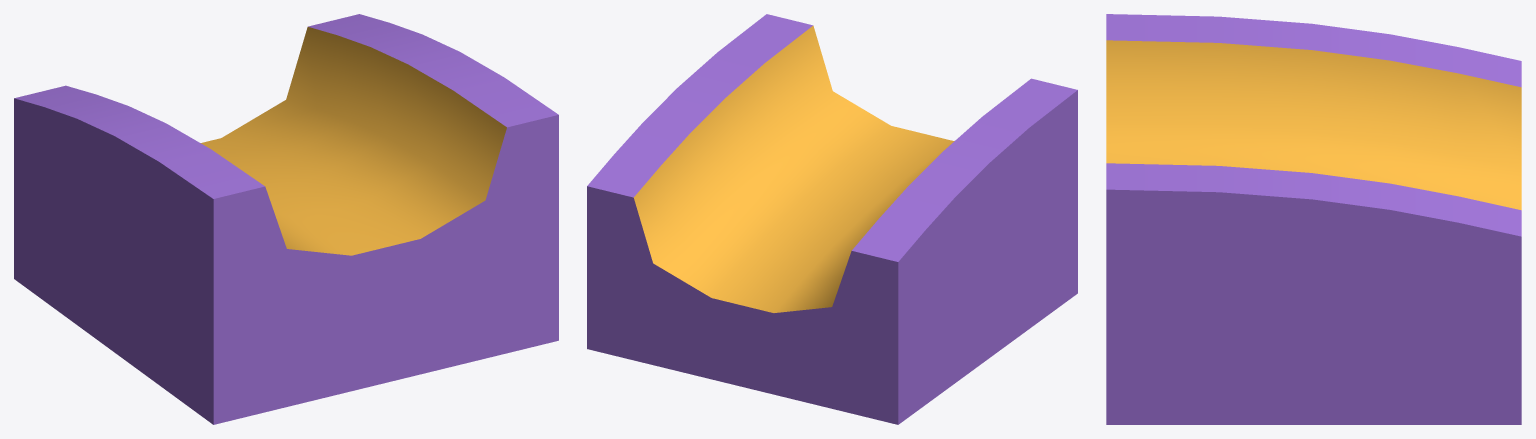
Rendered from ramp-end-solid-a.glb.
3 views of the same model, side by side, from view 1: azimuth 30°, elevation 25°; view 2: azimuth 150°, elevation 25°; view 3: azimuth 270°, elevation 25° (orthographic). The views are drawn at different scales.
Parts seen in each view (by area): view 1: ramp-end-solid-a; view 2: ramp-end-solid-a; view 3: ramp-end-solid-a.
Boxes of the visible parts, box(x1,y1,x2,y2) form: ramp-end-solid-a: box(14, 14, 558, 424); ramp-end-solid-a: box(587, 14, 1077, 424); ramp-end-solid-a: box(1106, 14, 1521, 424).
Bounding box in the file's own units: 1 × 0.625 × 1.
Materials: 1 (1 with a texture image).
